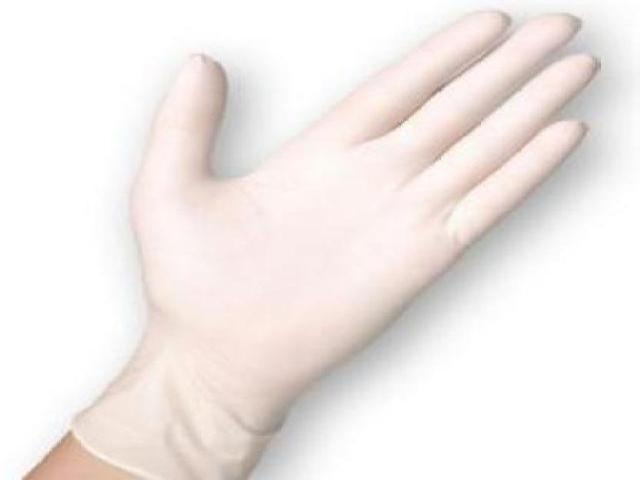Hand-in-Glove: (65, 0, 601, 478)
